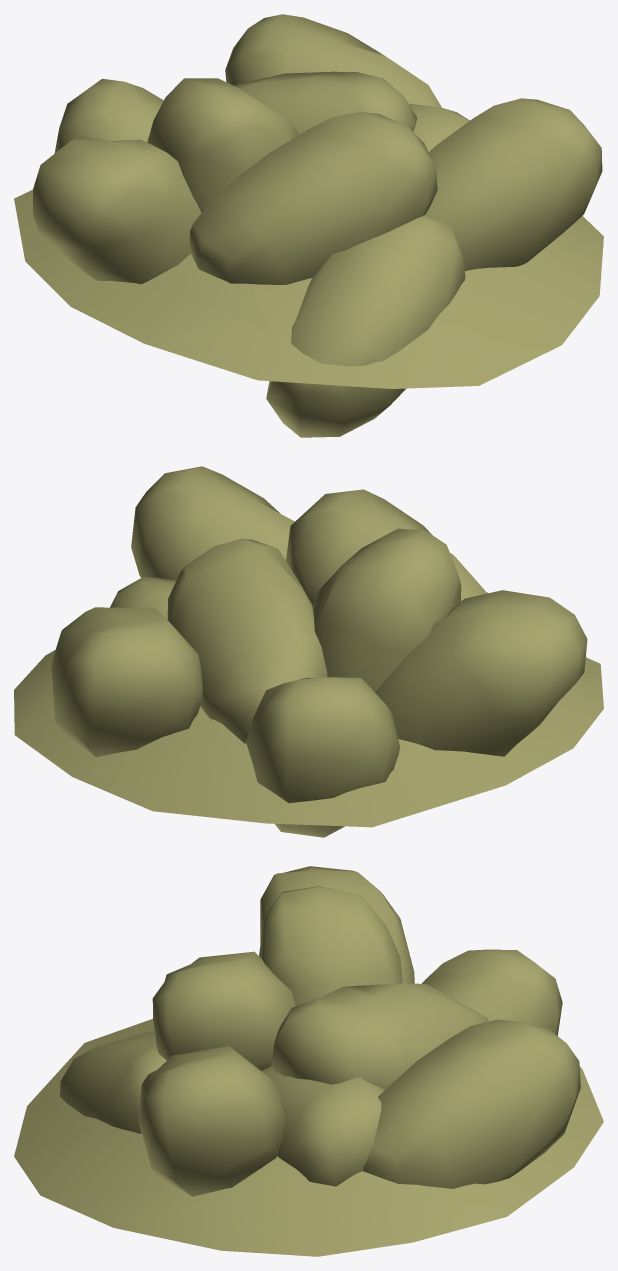
The model's file is Barrel_Vegetable_02_Lod0.fbx.
3 renders of one model, top to bottom at view 1: azimuth 30°, elevation 25°; view 2: azimuth 150°, elevation 25°; view 3: azimuth 270°, elevation 25°, orthographic. The views are drawn at different scales.
Visible parts, largest first — view 1: Barrel_Vegetable_02_Lod0; view 2: Barrel_Vegetable_02_Lod0; view 3: Barrel_Vegetable_02_Lod0.
Boxes of the visible parts, x1,y1,x2,y2 form: Barrel_Vegetable_02_Lod0: (14,14,603,437); Barrel_Vegetable_02_Lod0: (14,466,603,837); Barrel_Vegetable_02_Lod0: (14,866,603,1256).
Size of the model in its own units: 44.03 by 22.19 by 43.94.
